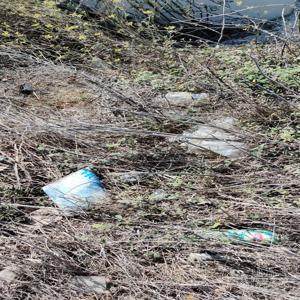plastic: (176, 104, 262, 173), (38, 164, 128, 221), (210, 221, 278, 250), (162, 85, 214, 113)
